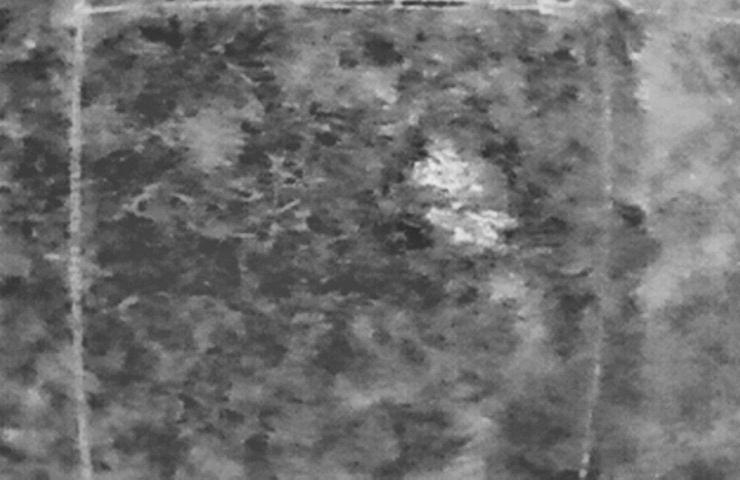landmines: (412, 145, 485, 203)
